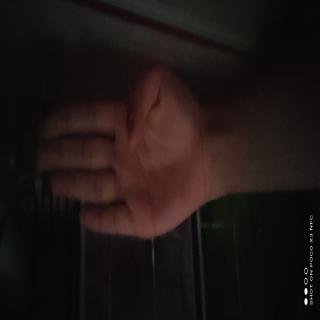KAAF: (33, 70, 122, 320)
